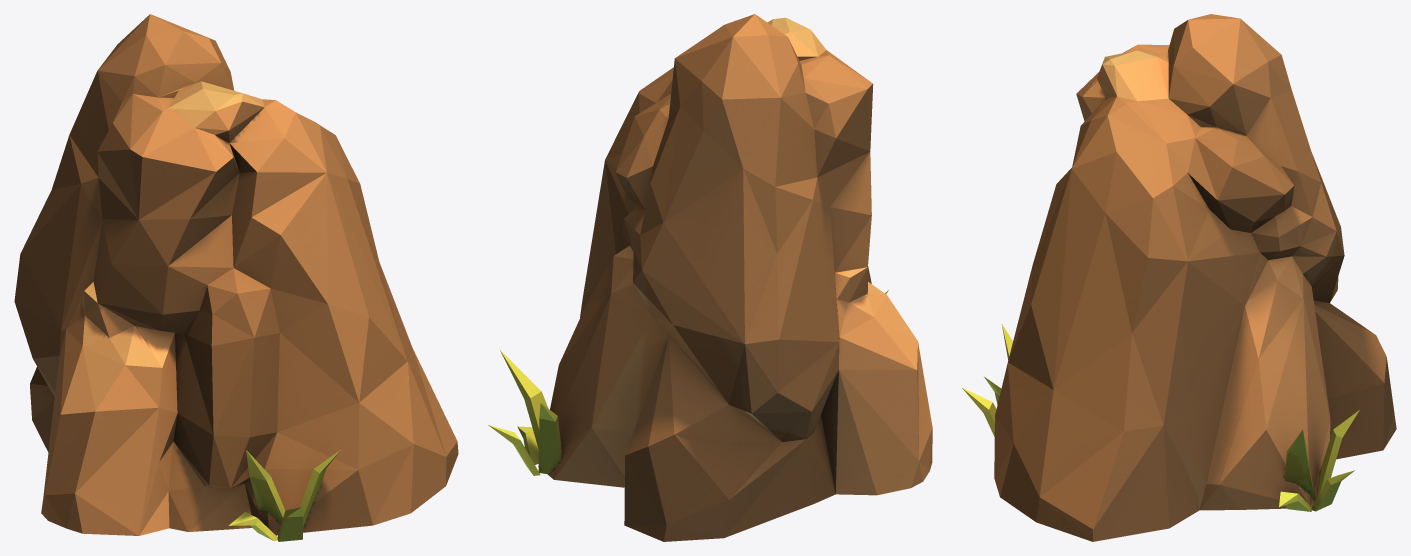
The model's file is PUSHILIN_rock.gltf.
3 views of the same model, side by side, from view 1: azimuth 30°, elevation 25°; view 2: azimuth 150°, elevation 25°; view 3: azimuth 270°, elevation 25° (orthographic). The views are drawn at different scales.
Parts seen in each view (by area): view 1: rock; view 2: rock; view 3: rock.
Part boxes in pixels (left/top/right/bottom): rock: left=14, top=14, right=458, bottom=541; rock: left=488, top=14, right=932, bottom=541; rock: left=962, top=14, right=1396, bottom=541.
Size of the model in its own units: 1.4 by 1.57 by 1.48.
1 material, 1 textured.
